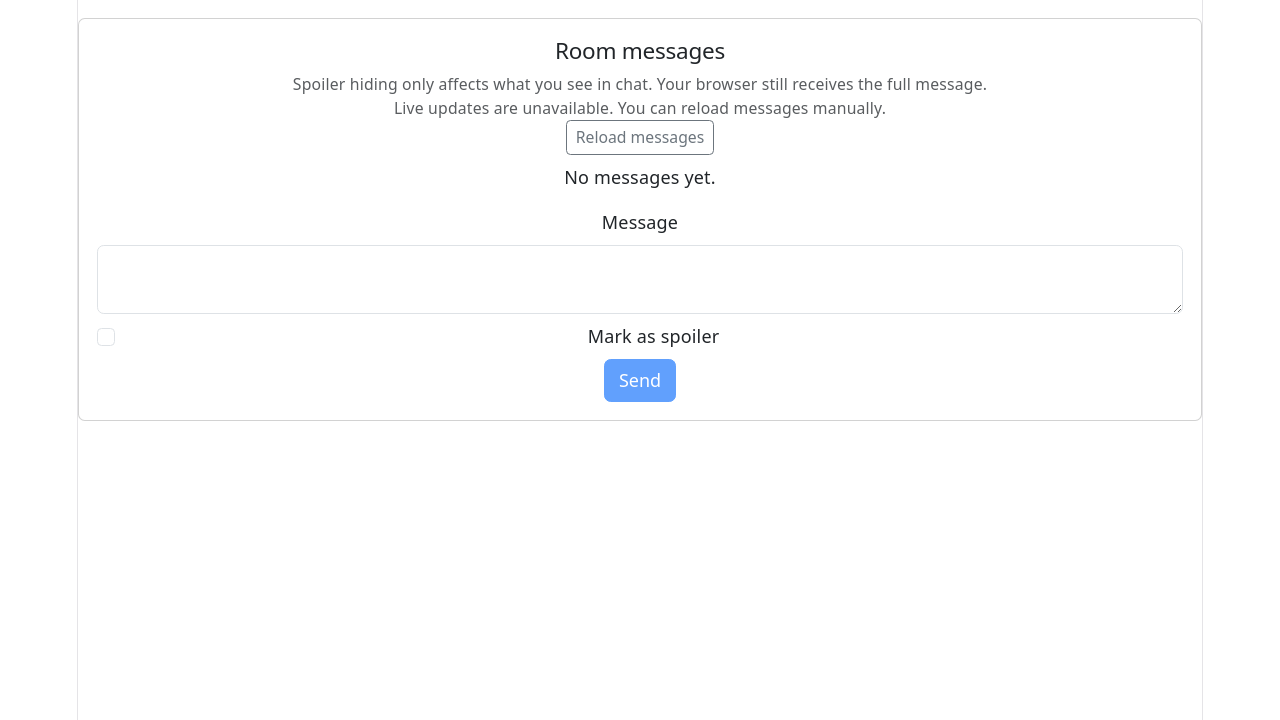
Test case: shows connection changes and preserves the message draft after a send failure
The image size is (1280, 720).
Expected: the text "No messages yet." is shown, left=564, top=165, right=716, bottom=189
Expected: the text "Live chat connected." is shown, left=394, top=97, right=886, bottom=119
Type "Keep this draft" into the text box labelled "Message".
click(640, 280); type("Keep this draft")  # box left=97, top=245, right=1183, bottom=314
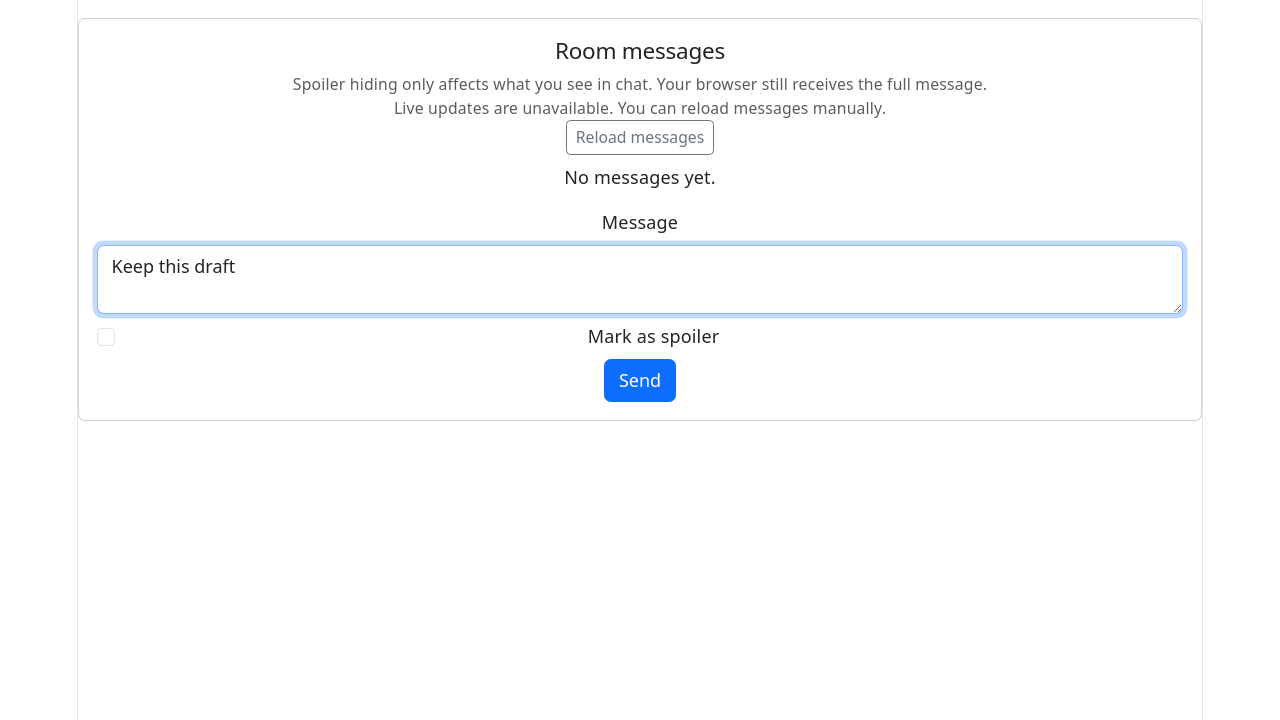
Click the button "Send".
click(640, 381)  # box left=604, top=359, right=676, bottom=402
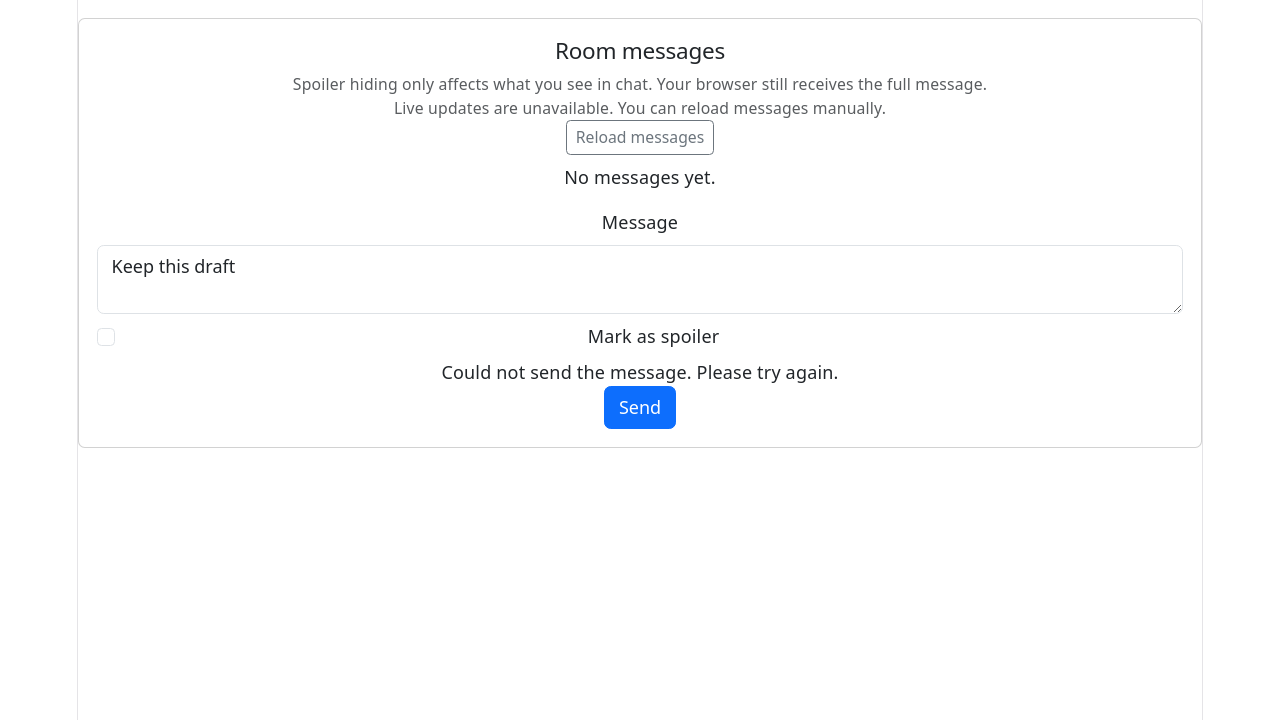
Expected: the button "Send" is enabled, left=604, top=386, right=676, bottom=429
Expected: the message "Could not send the message. Please try again." is shown, left=441, top=360, right=838, bottom=384
